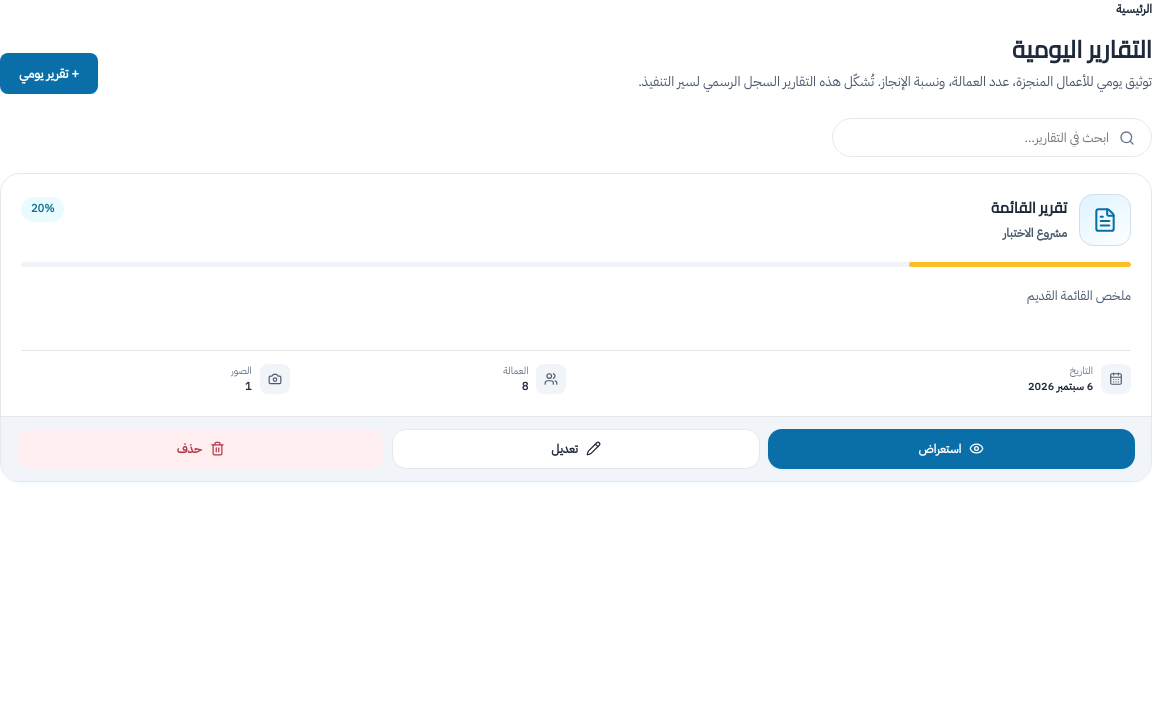
Test case: DailyReportsPage detail and edit integration › shows the existing error state when detail loading fails
The image size is (1152, 720).
Click the button "استعراض": (951, 448) [768, 428, 1135, 468]
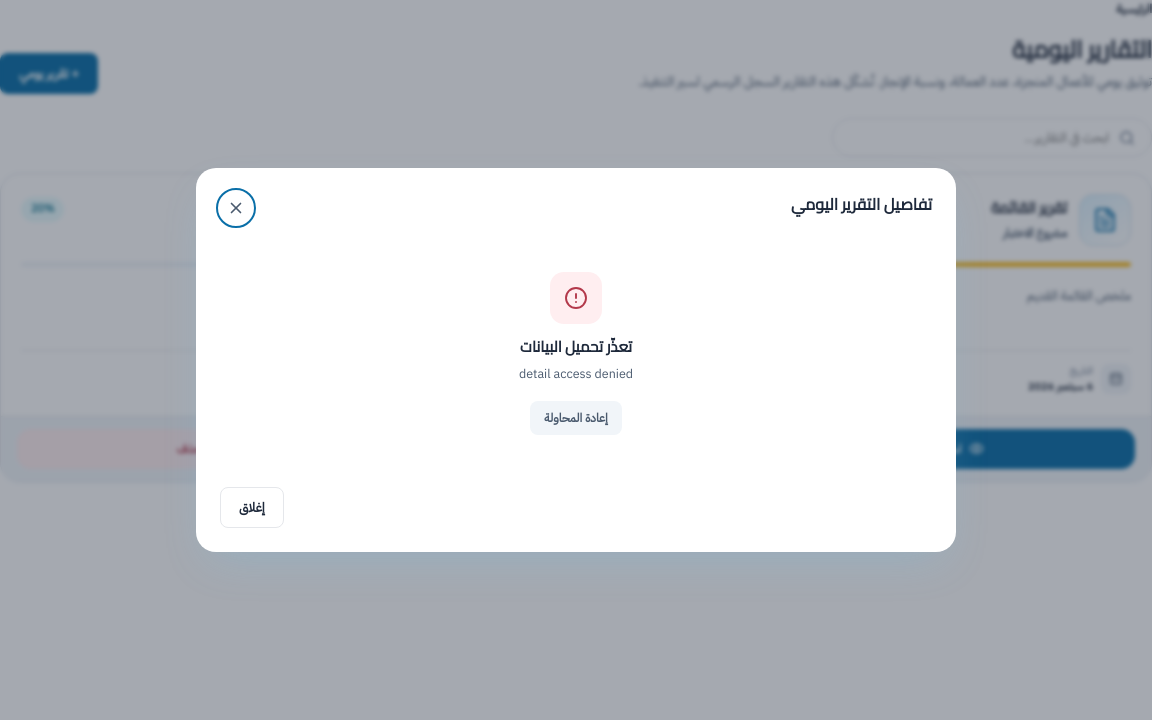
expect the text "detail access denied" is shown: met, box [519, 364, 633, 383]
